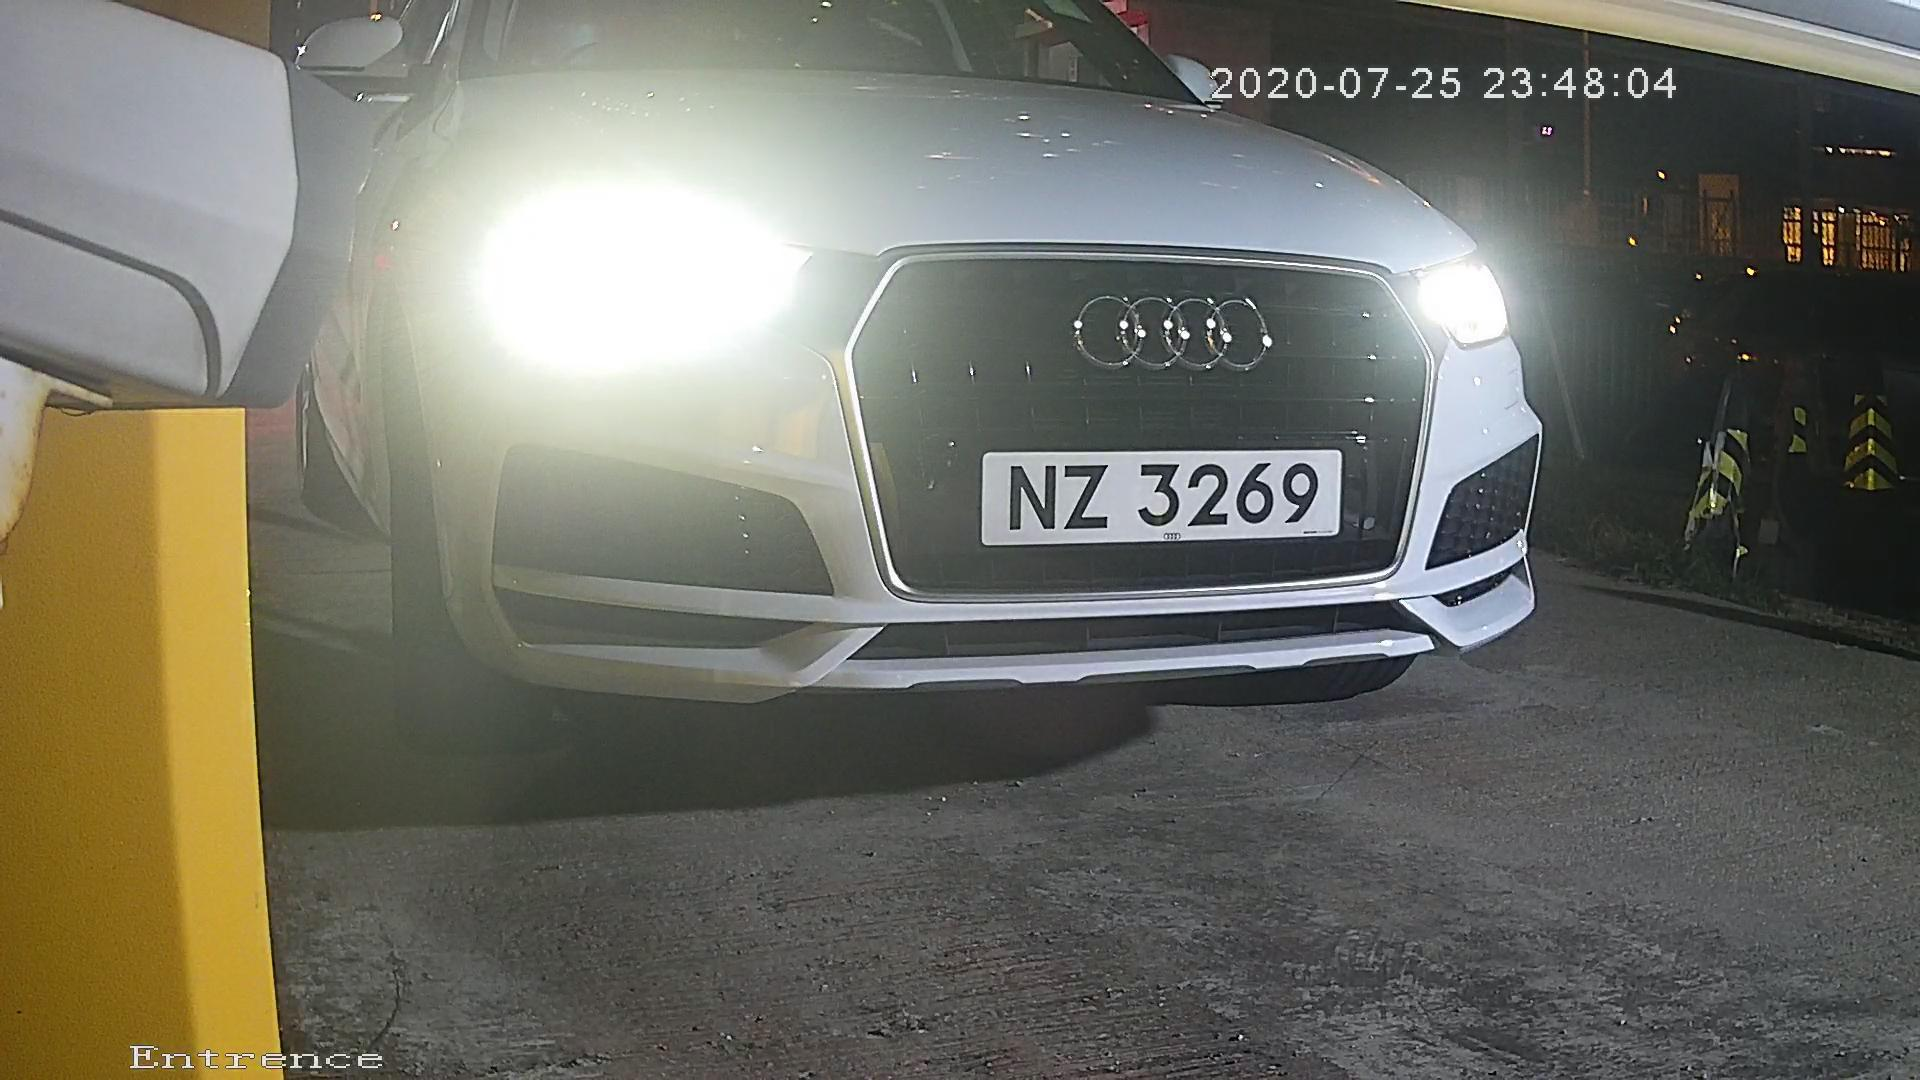privatecar: (343, 11, 1638, 738)
